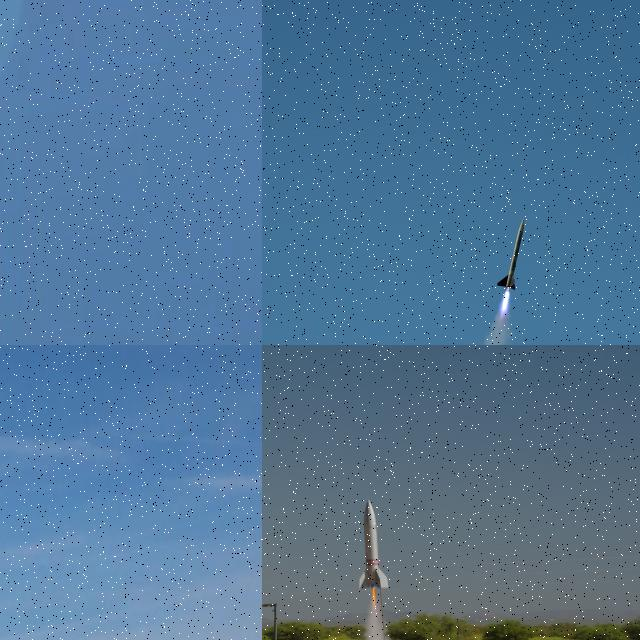Rocket: (356, 498, 392, 591), (496, 218, 525, 291)
